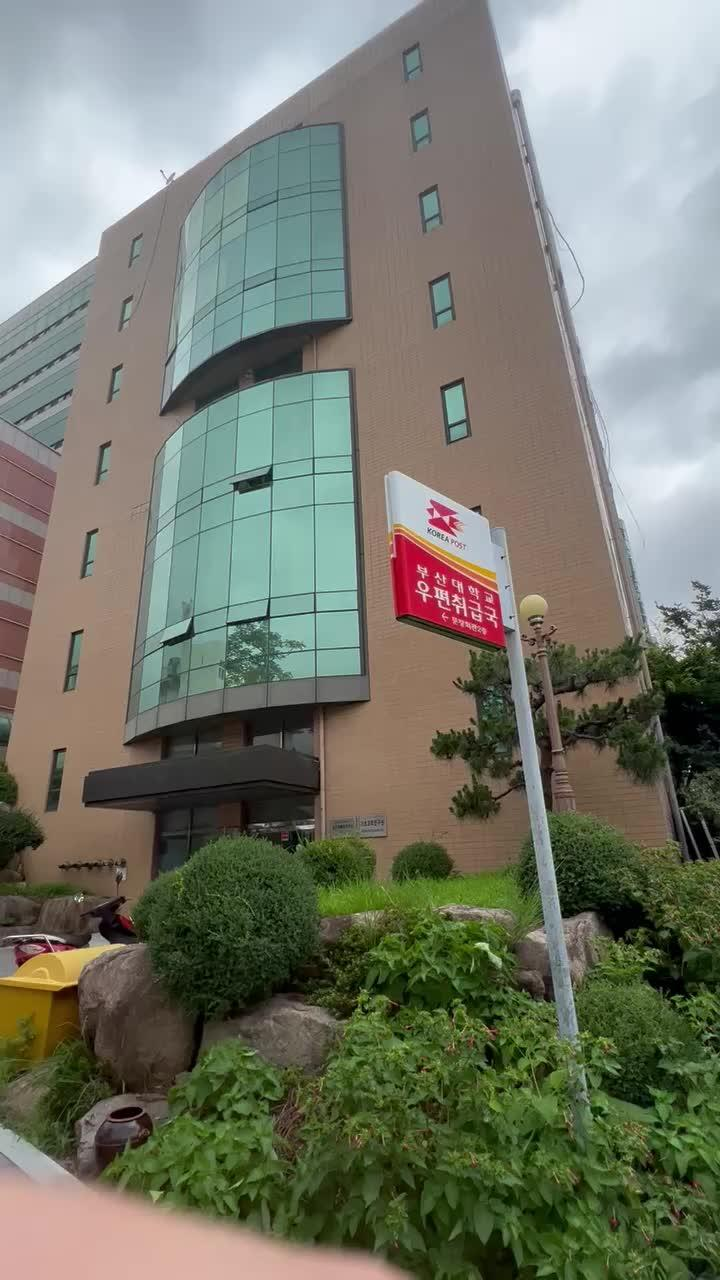building: (56, 58, 602, 514)
